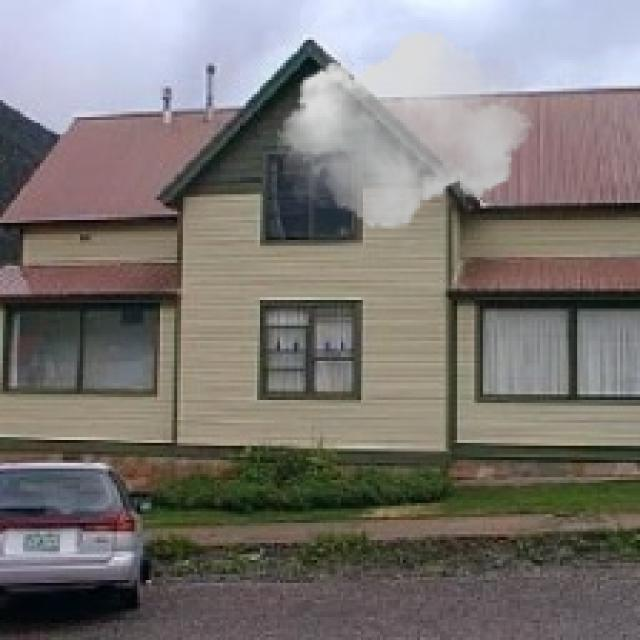smoke: (277, 23, 534, 237)
